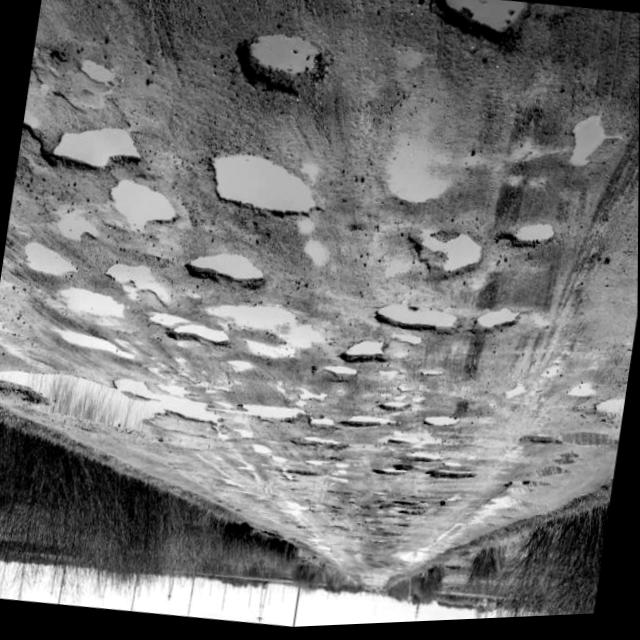pathole: (23, 4, 626, 562)
